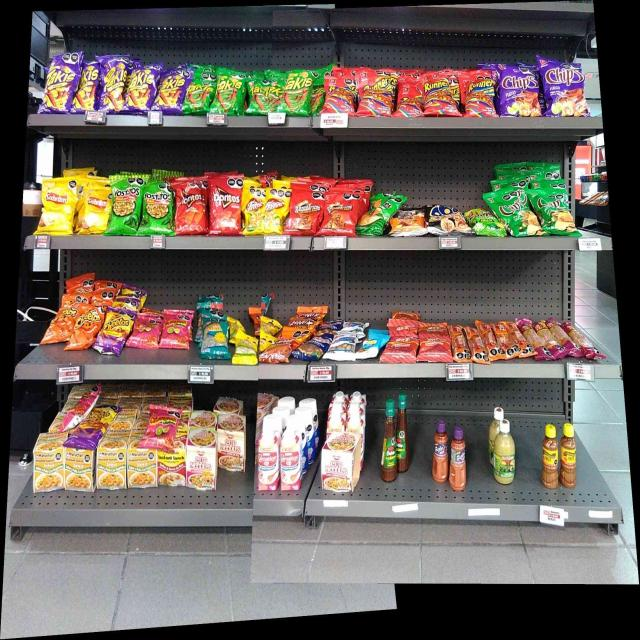bitzAlmendras: (360, 334, 386, 357)
bitzEnchilado90: (420, 333, 450, 361), (389, 334, 417, 362)
bitzEnchilado95: (451, 322, 524, 362)
bitzHabanero: (527, 319, 585, 360)
bokadosCacahuates: (299, 334, 328, 361)
botaneraChilito: (560, 423, 576, 488), (542, 424, 556, 490)
cheetosFlaminHot: (103, 314, 128, 354), (80, 407, 110, 435)
cheetosOriginal: (73, 306, 103, 345), (54, 301, 72, 339)
chipsFuego: (544, 61, 585, 113), (502, 66, 539, 116)
chipsJalapeno: (500, 192, 535, 235), (537, 188, 570, 233)
chipsPapatinas: (469, 207, 499, 238)
churrumais: (361, 70, 392, 112), (326, 76, 354, 115), (148, 410, 180, 444), (161, 311, 190, 346), (134, 313, 160, 346)
delPrimoSalsa: (492, 418, 515, 484)
doritosNacho: (211, 185, 240, 230), (177, 186, 206, 228)
fritosLimon: (245, 191, 264, 233), (266, 195, 285, 231)
leoCacahuates: (330, 334, 356, 358)
leoMix: (271, 329, 296, 359), (294, 309, 319, 329)
maruchanPollo: (35, 433, 63, 492), (97, 438, 126, 489), (65, 448, 95, 492), (127, 446, 156, 489)
maruchanRes: (158, 447, 186, 486)
nestleCarnation: (279, 426, 303, 492), (258, 423, 277, 494)
nissinRes: (324, 434, 362, 490), (218, 413, 246, 476), (188, 431, 216, 491)
popKarameladas: (426, 205, 466, 232)
rancheritos: (293, 189, 321, 234), (324, 197, 355, 232)
rufflesQueso: (364, 199, 396, 234)
runners: (467, 80, 494, 114), (424, 76, 448, 114), (399, 77, 422, 114)
sabritasOriginal: (42, 183, 72, 233), (84, 189, 110, 229)
salsaBufalo: (380, 399, 399, 482)
semillasCalabaza: (235, 336, 258, 366)
semillasGirasol: (202, 318, 228, 357)
tajinDulce: (431, 420, 449, 482), (450, 426, 466, 492)
takisFuego: (46, 57, 74, 112), (76, 64, 100, 111), (103, 63, 127, 107), (131, 70, 155, 109), (160, 71, 183, 110)
takisOriginal: (287, 71, 312, 111), (218, 75, 241, 111), (186, 80, 211, 110), (249, 81, 267, 114), (270, 80, 285, 111)
tostitos: (114, 185, 140, 232), (143, 188, 172, 228)
